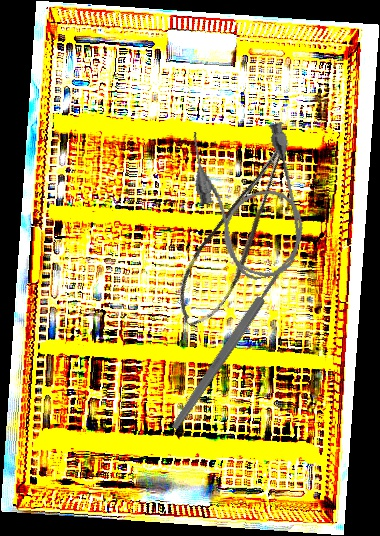Cannula: (183, 111, 317, 289)
Micro Scissor: (158, 134, 323, 336)
Scalpel Handle: (169, 269, 284, 432)
